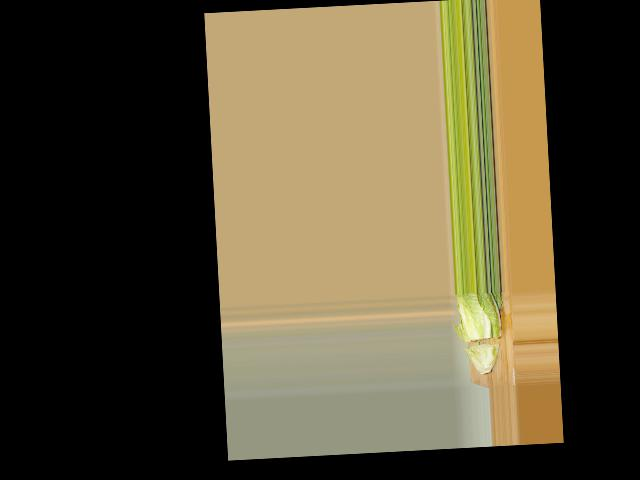lettuce: (453, 292, 509, 374)
